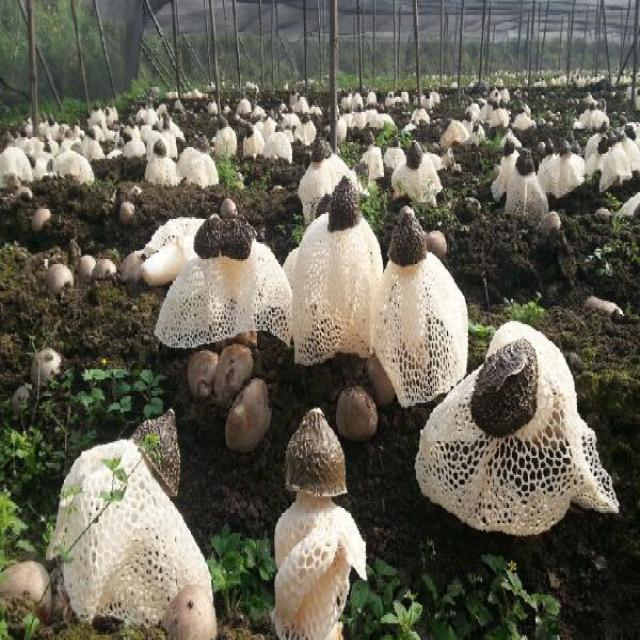Dictyophora indusiate: (414, 322, 620, 534), (48, 407, 214, 636), (274, 410, 368, 638), (156, 214, 293, 348), (381, 204, 470, 409), (282, 181, 382, 363), (300, 141, 359, 212), (506, 145, 545, 220), (590, 126, 640, 182), (544, 134, 585, 198), (394, 144, 436, 201), (176, 134, 220, 183), (146, 141, 176, 189)
